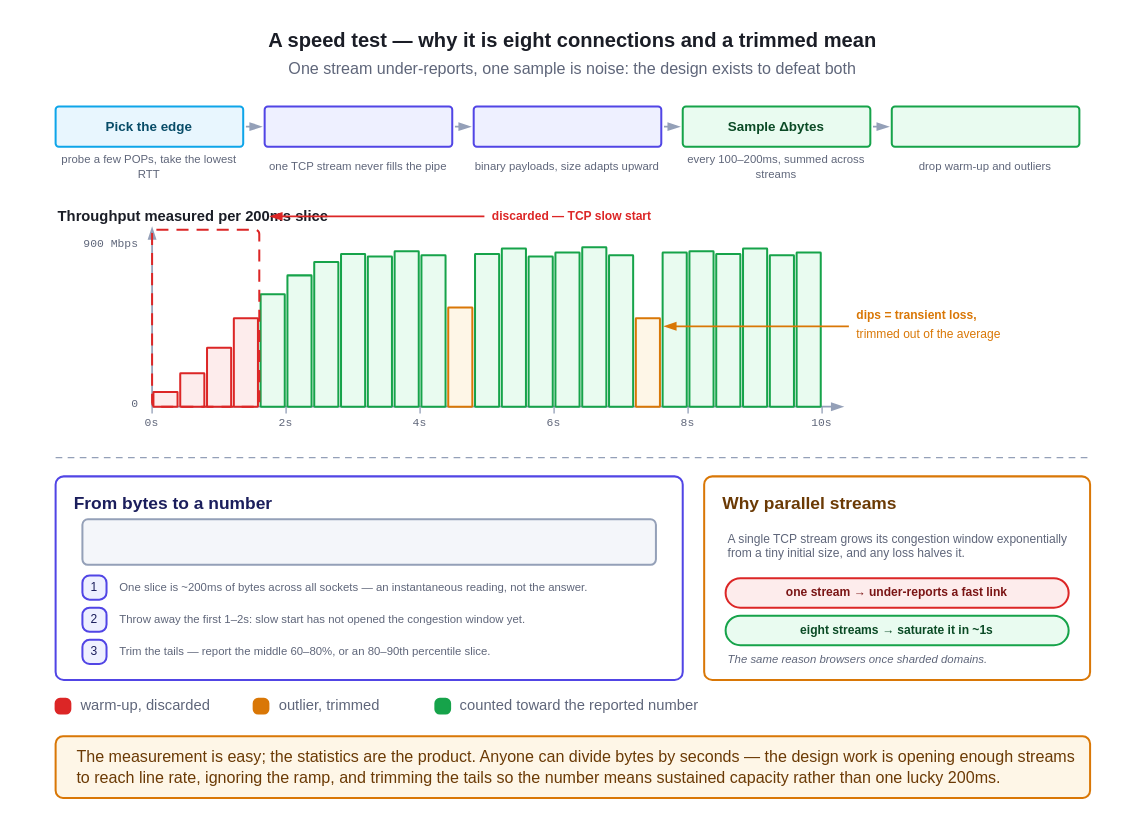
This 1144x821 diagram has some shape labels left out. The shapes that lost their labels are listed below. From the top down, each one's centre as x and y in pixels, then its label:
At pixel 358 126: "Open 4–8 streams".
At pixel 567 126: "Pull chunks".
At pixel 985 126: "Trim + report".
At pixel 368 541: "Mbps = (Δbytes summed over every stream × 8) ÷ (Δt × 1,000,000)".
